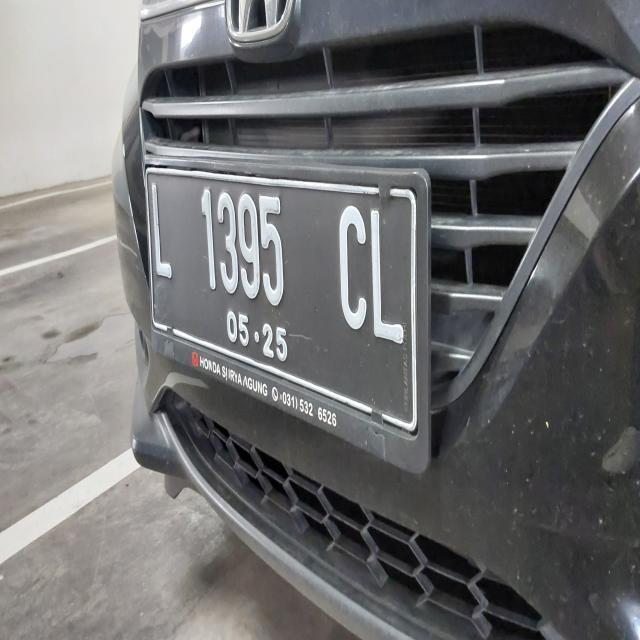1: (198, 184, 216, 300)
3: (216, 184, 238, 298)
5: (260, 184, 286, 308)
9: (238, 182, 260, 300)
C: (337, 202, 370, 332)
L: (370, 204, 408, 347), (146, 178, 177, 289)
